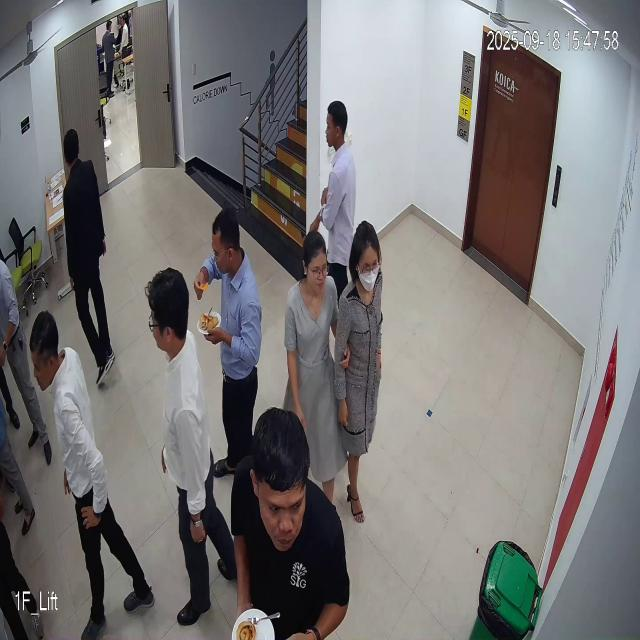face: (351, 223, 382, 293), (301, 232, 330, 297)
